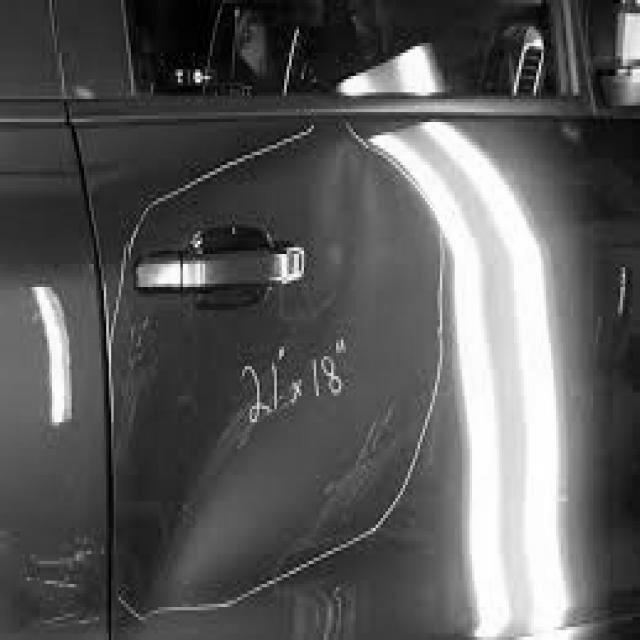doorouter-dent: (126, 138, 452, 609)
